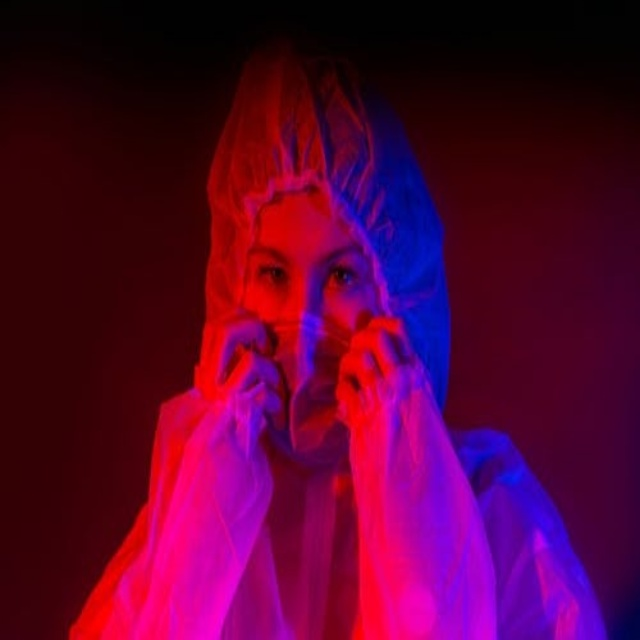Mascara: (262, 310, 362, 459)
Sin_gafas: (243, 217, 370, 300)
